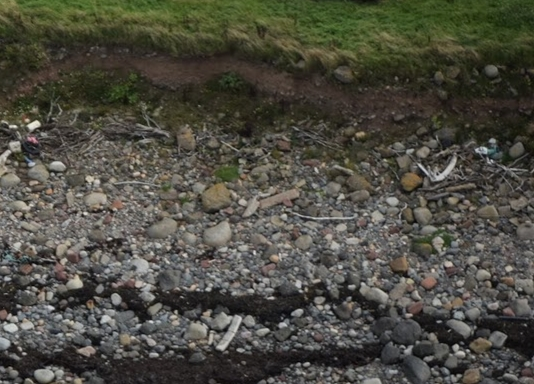together_barrel: (1, 108, 54, 165)
white_in_green: (459, 125, 512, 174)
